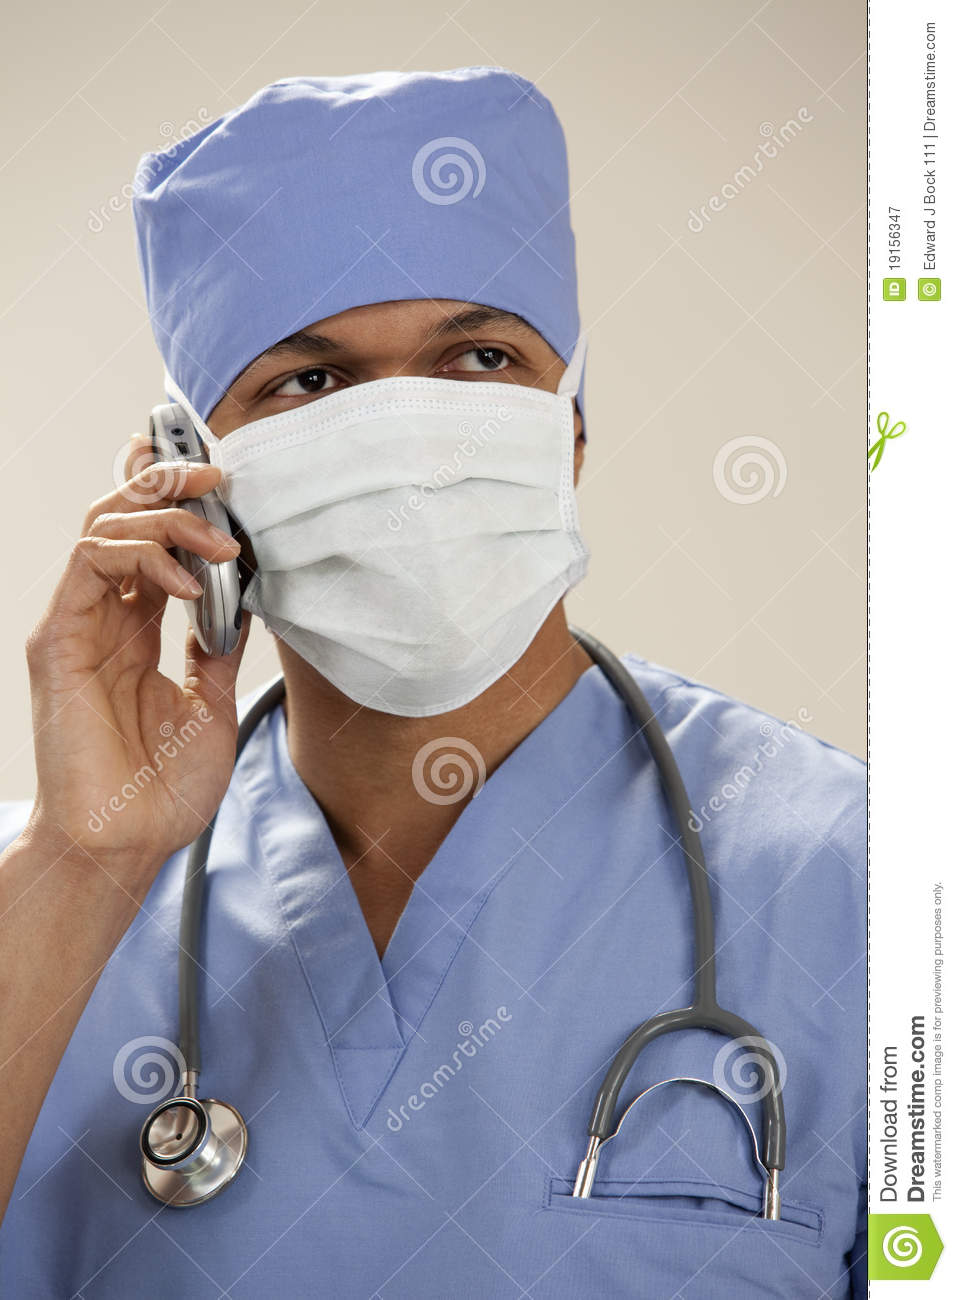mask: (194, 411, 646, 735)
